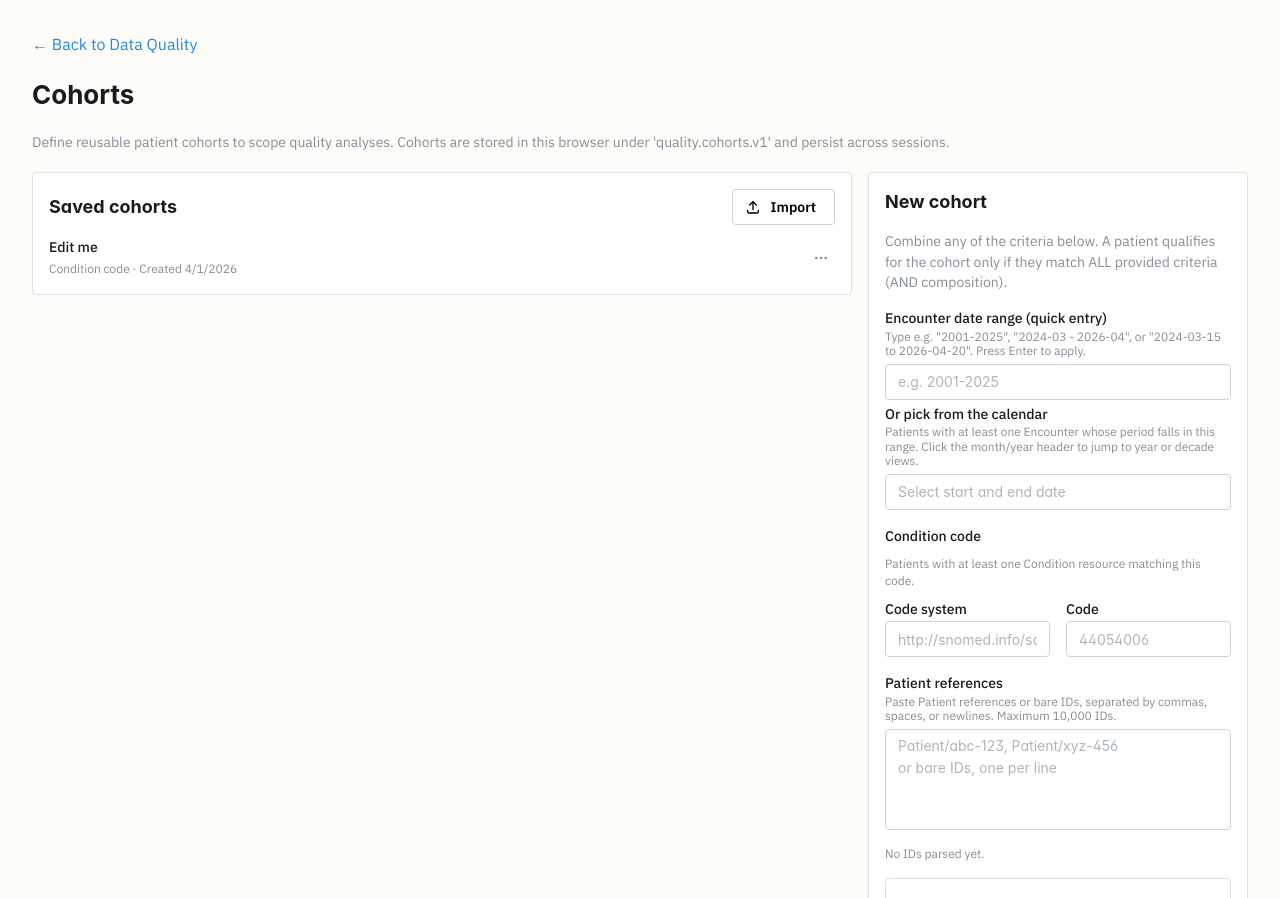
it: CohortsPage › Edit menu item opens EditCohortModal
Click the button named "actions for cohort \"Edit me\"". click: [821, 258]
box: [807,244,835,272]
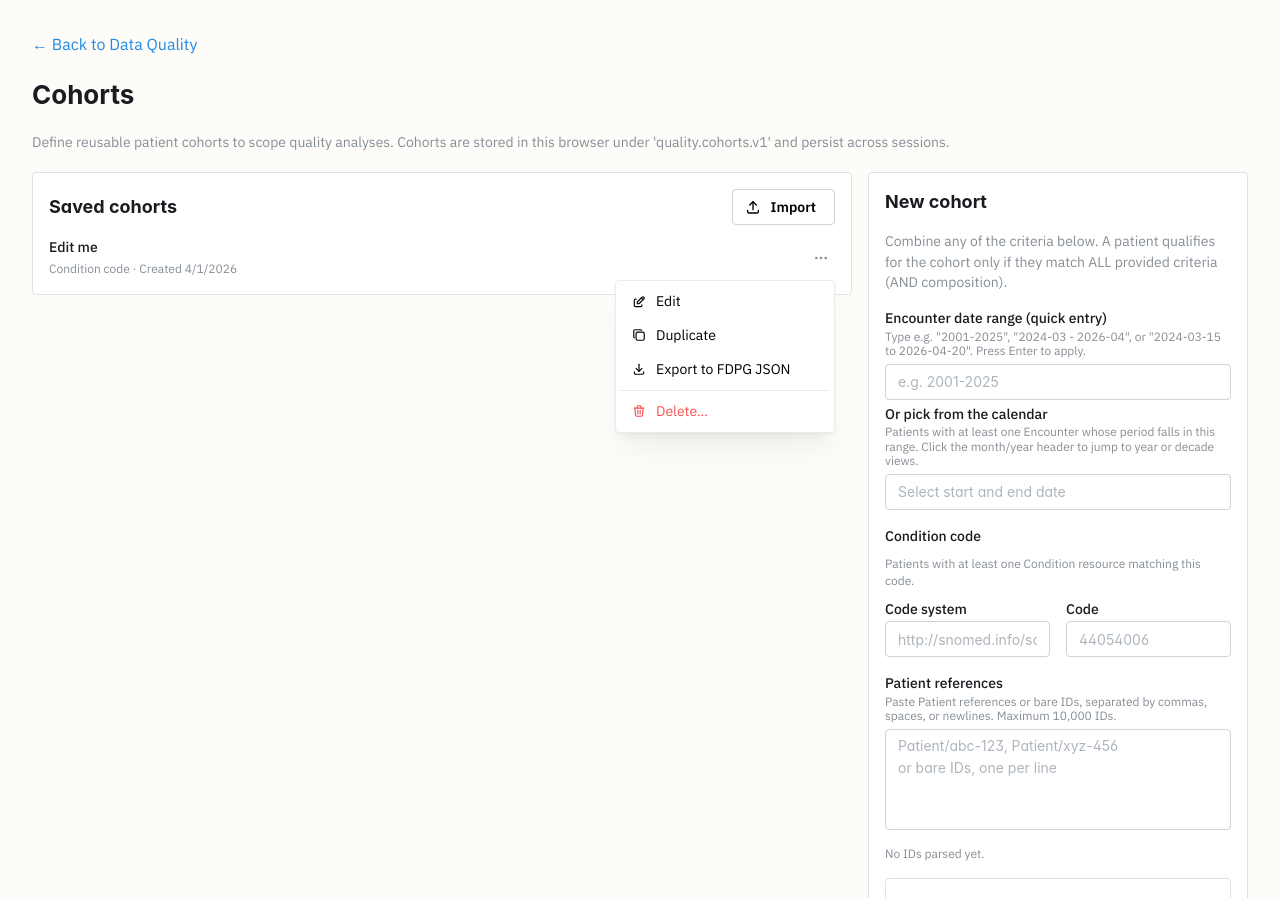
Click the menu item "Edit". click: [725, 302]
box: [620,285,830,318]
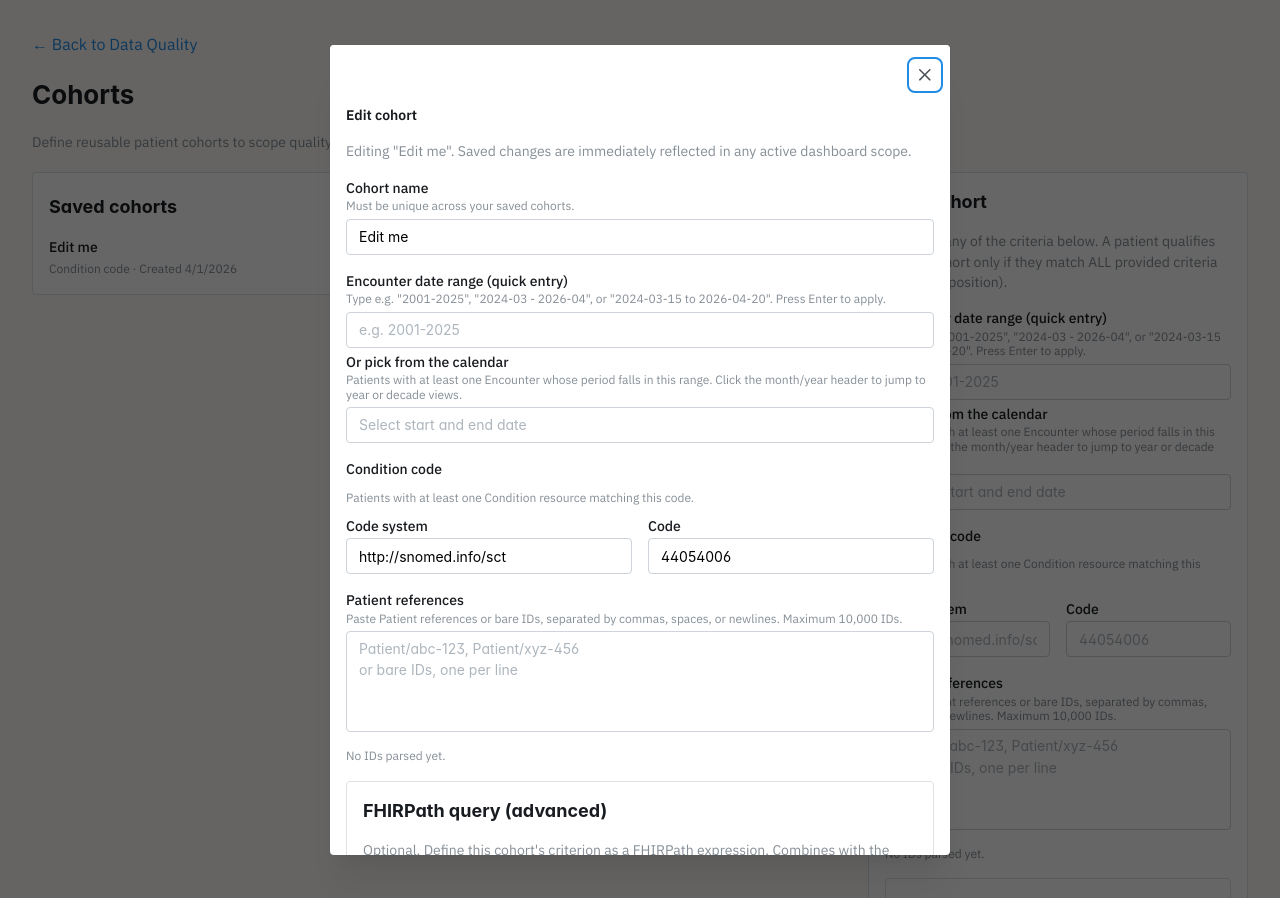
Expected: the text "Edit cohort" is shown, [346,106,417,124]
